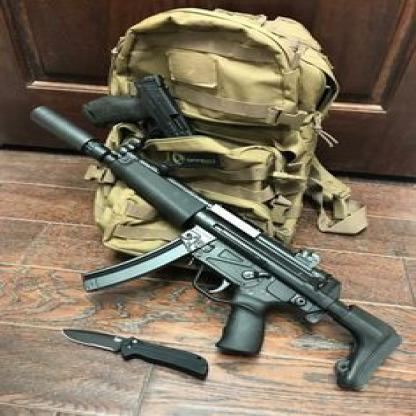Gun: (25, 102, 406, 392)
Knife: (61, 326, 211, 382)
Pistol: (82, 74, 196, 139)
